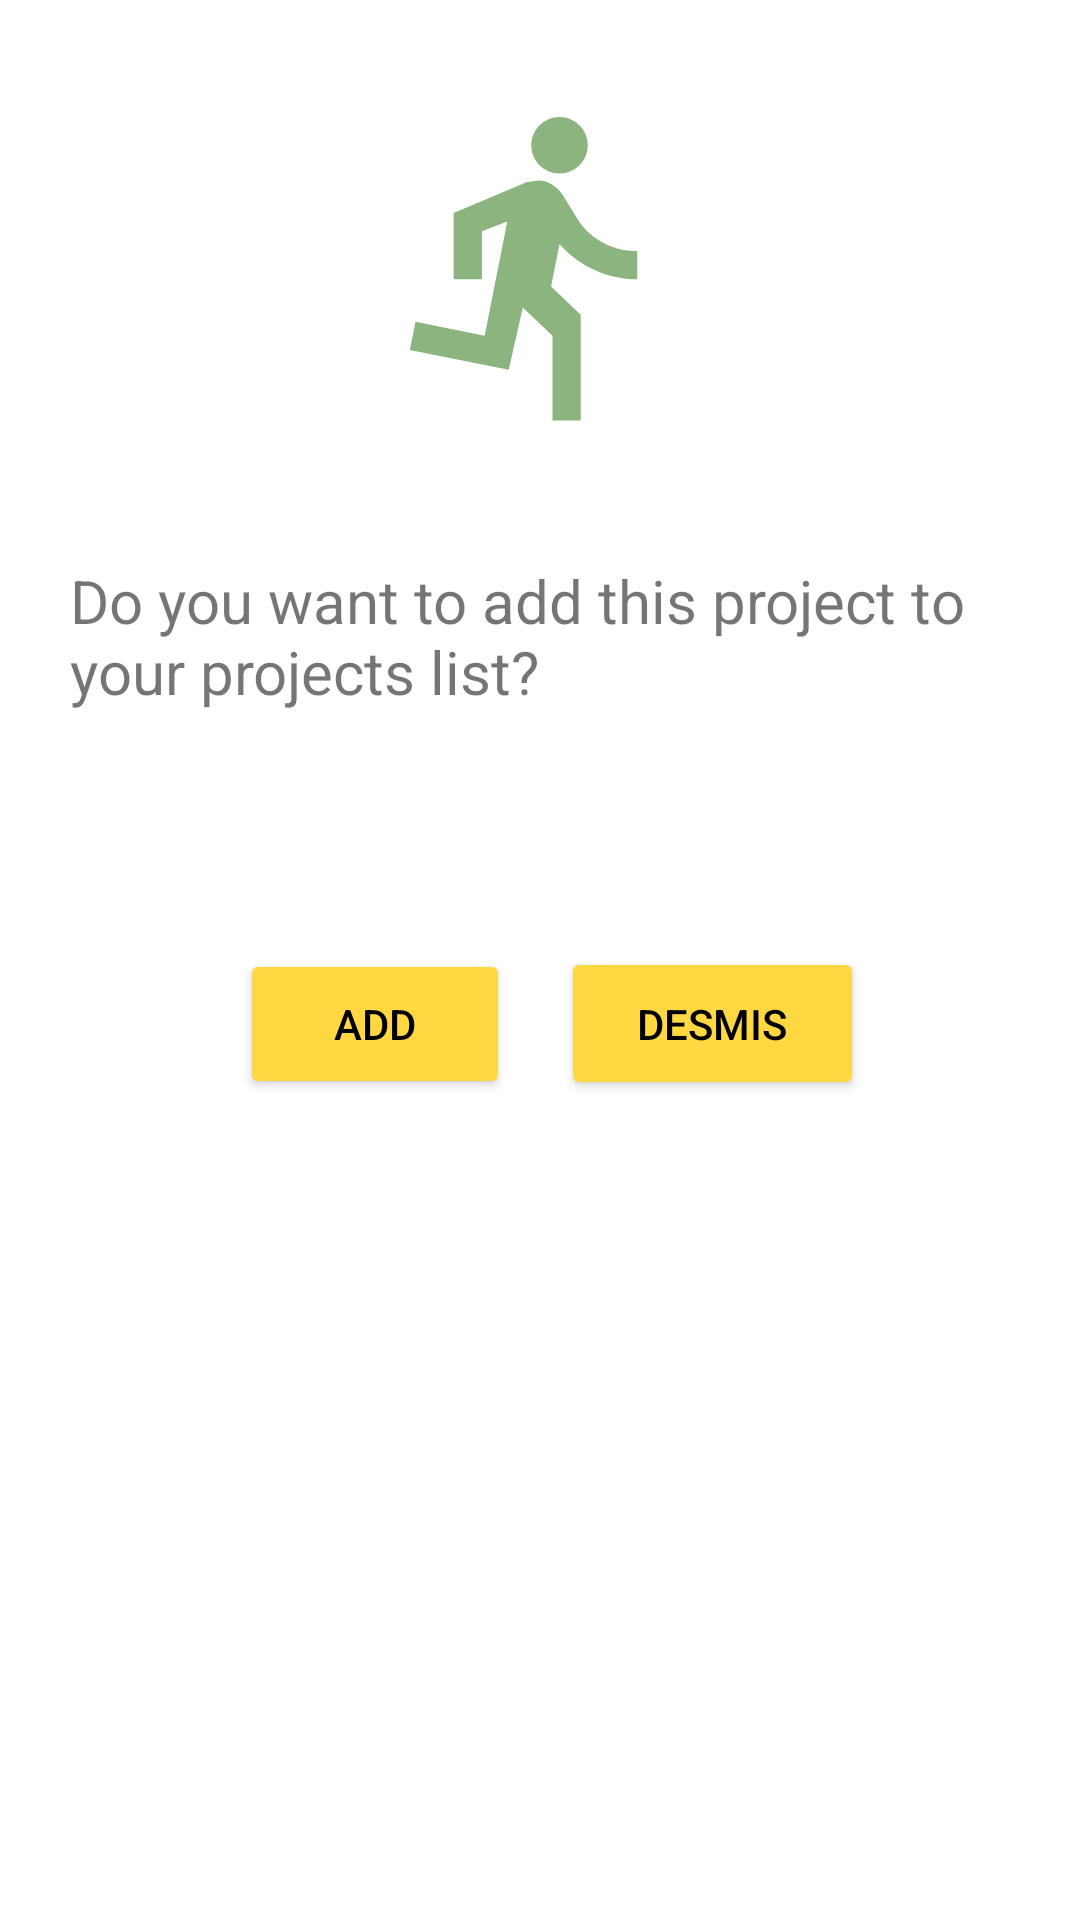

Where icons sit on this 1080px x 1920px app screen, as (x1,y1,x2,y2):
directions run: (410,117,638,421)
